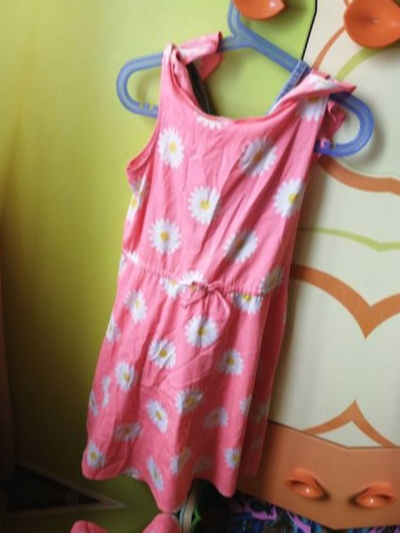Dress: (49, 1, 385, 525), (363, 53, 400, 533), (0, 505, 303, 533), (133, 0, 400, 2)
